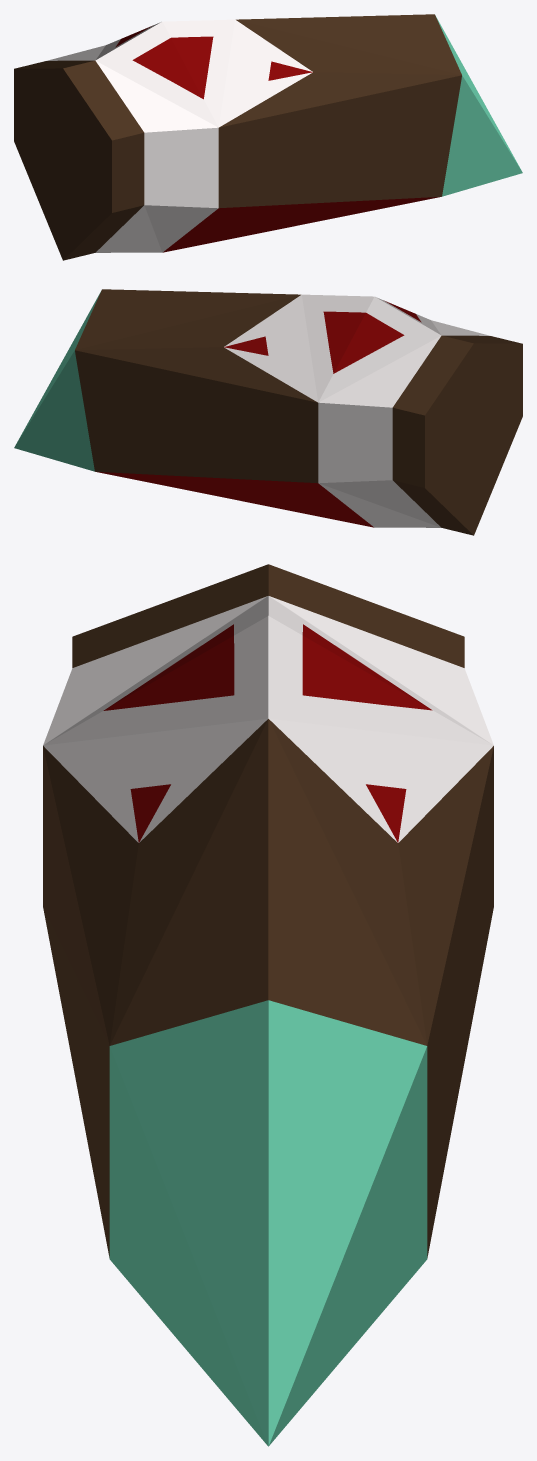
Rendered from Tribal_Plains_Windmill_Point_End_Bird_01.fbx.
3 views of the same model, one above another, from view 1: azimuth 30°, elevation 25°; view 2: azimuth 150°, elevation 25°; view 3: azimuth 270°, elevation 25° (orthographic). The views are drawn at different scales.
Parts seen in each view (by area): view 1: Tribal_Plains_Windmill_Point_End_Bird_01; view 2: Tribal_Plains_Windmill_Point_End_Bird_01; view 3: Tribal_Plains_Windmill_Point_End_Bird_01.
Boxes of the visible parts, x1,y1,x2,y2 form: Tribal_Plains_Windmill_Point_End_Bird_01: (14,14,522,260); Tribal_Plains_Windmill_Point_End_Bird_01: (14,289,522,535); Tribal_Plains_Windmill_Point_End_Bird_01: (43,564,493,1446).
Size of the model in its own units: 1.65 by 0.8195 by 0.6993.
